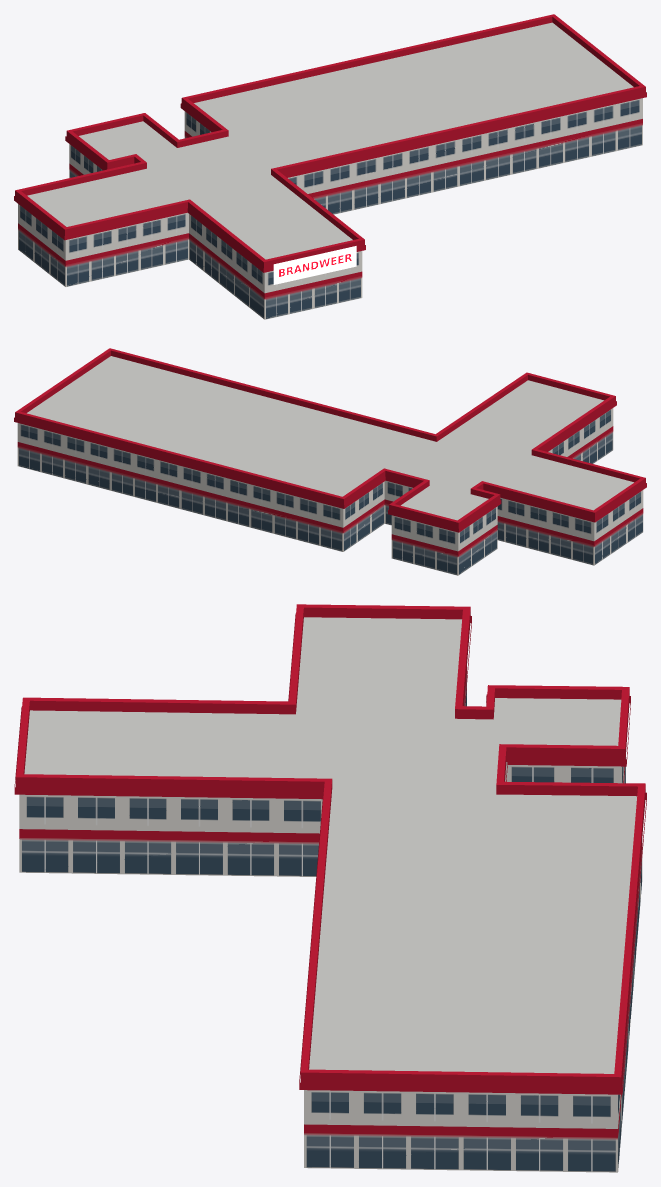
File: brandweer_tf.glb
3 views of the same model, one above another, from view 1: azimuth 30°, elevation 25°; view 2: azimuth 150°, elevation 25°; view 3: azimuth 270°, elevation 25° (orthographic). The views are drawn at different scales.
Visible parts, largest first — view 1: brandweer_tf_lod0; view 2: brandweer_tf_lod0; view 3: brandweer_tf_lod0.
Part boxes in pixels (box(x1,y1,x2,y2)): brandweer_tf_lod0: box(14, 14, 646, 319); brandweer_tf_lod0: box(14, 348, 646, 575); brandweer_tf_lod0: box(14, 604, 646, 1172).
Size of what is drawn, in the model's own units: 83.92 by 8 by 47.37.
Materials: 5 (3 with a texture image).
